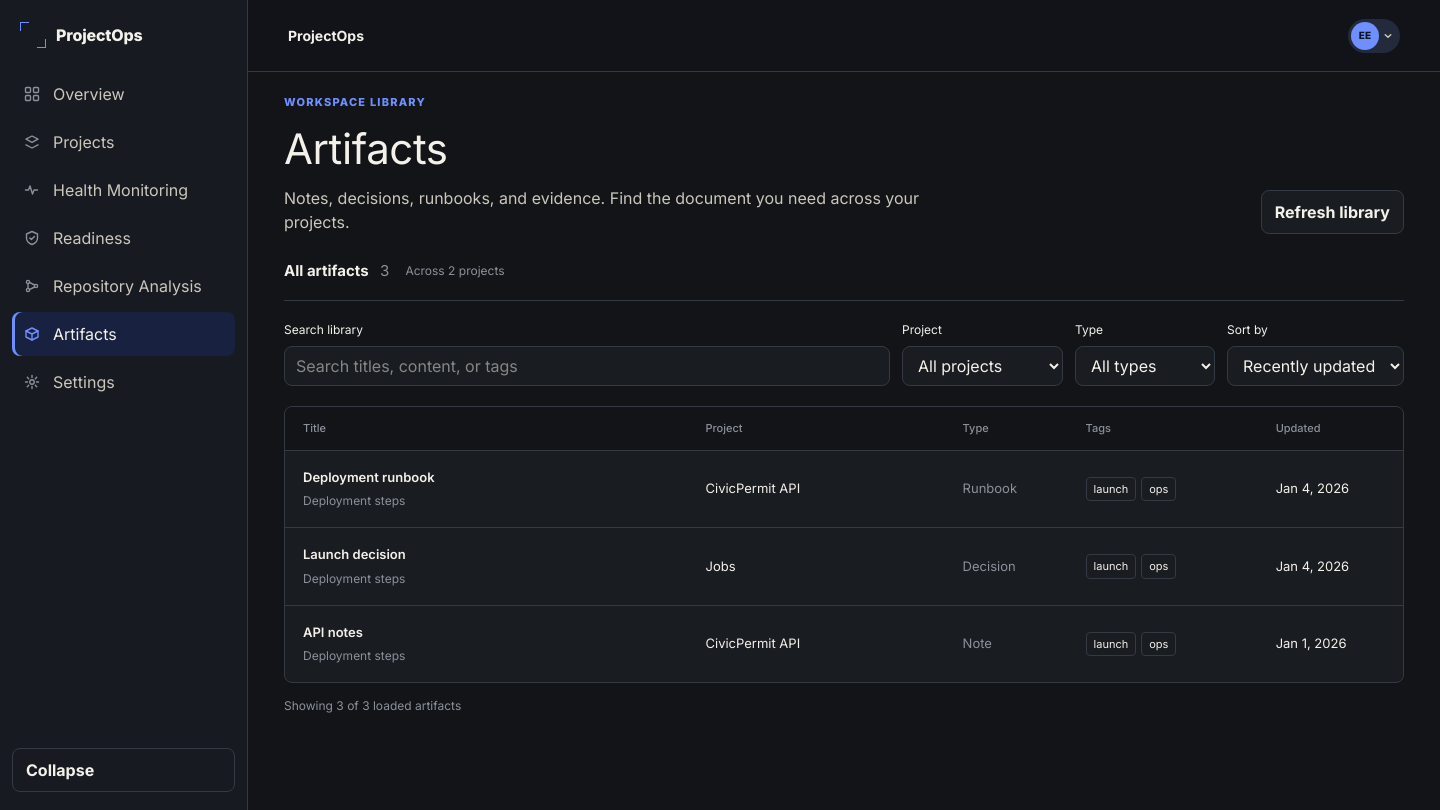
Test: lists actual artifacts and opens an accessible reader with project management
Click the button "Deployment runbook". click: (369, 477)
box: top-left (303, 468), bottom-right (434, 487)
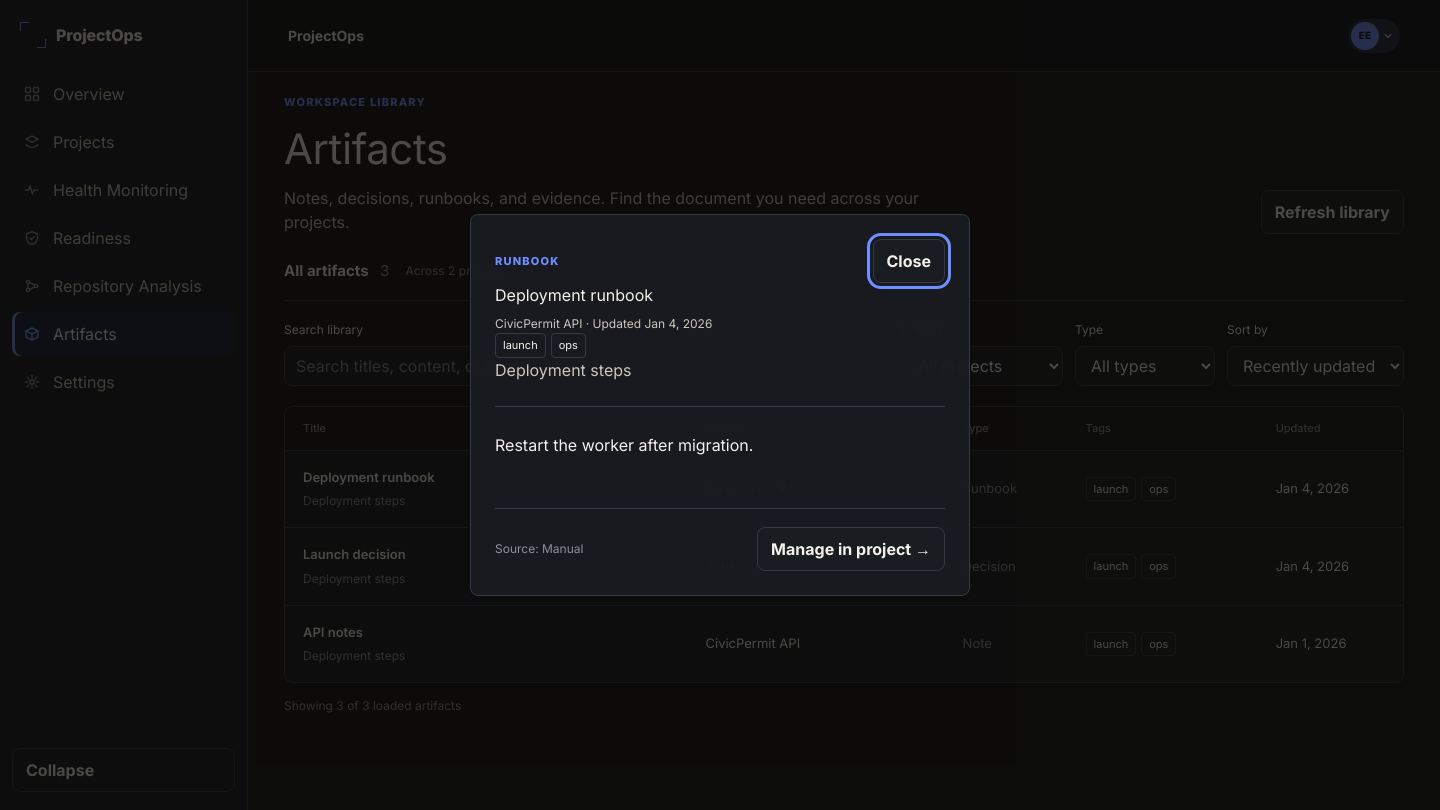
Check: the text "Restart the worker after migration." is shown, box top-left (495, 406), bottom-right (945, 484)
Press Escape
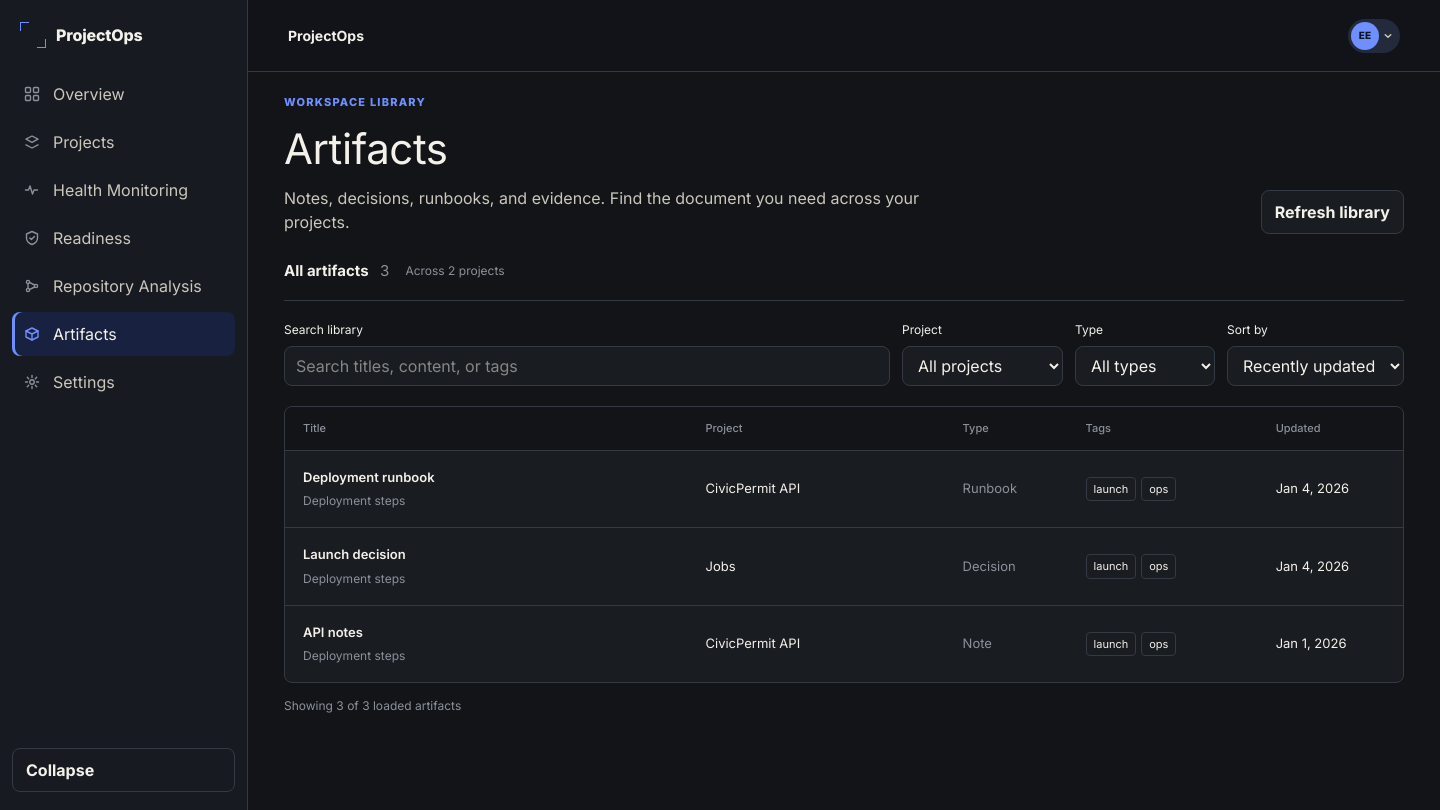
Check: the dialog is gone
